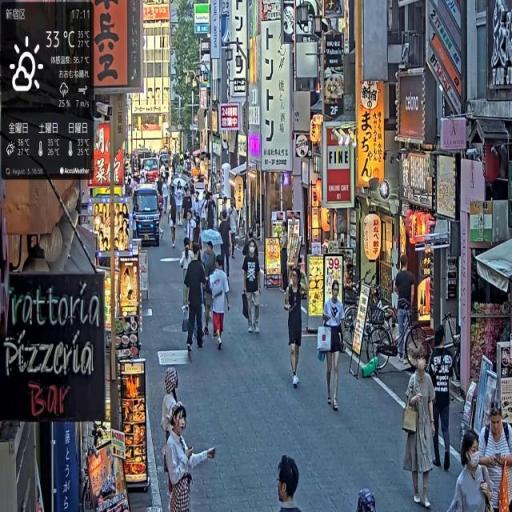person: (164, 403, 219, 512), (402, 350, 438, 511), (426, 327, 455, 476), (450, 428, 495, 512), (322, 277, 348, 413), (480, 406, 512, 512), (184, 248, 209, 360), (394, 254, 417, 367), (285, 268, 305, 391), (209, 255, 232, 354), (242, 239, 263, 336), (219, 211, 234, 287), (229, 201, 240, 260), (169, 190, 179, 248)
